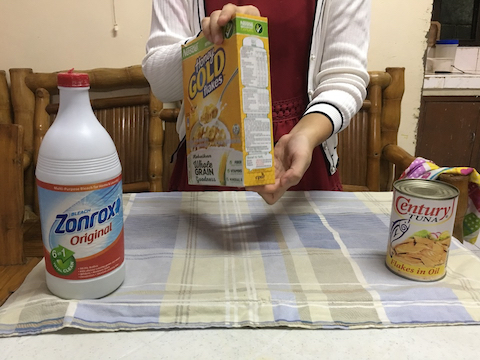bottle: (31, 67, 132, 302)
box: (178, 11, 278, 192)
can: (383, 177, 461, 283)
grab: (195, 3, 263, 49)
